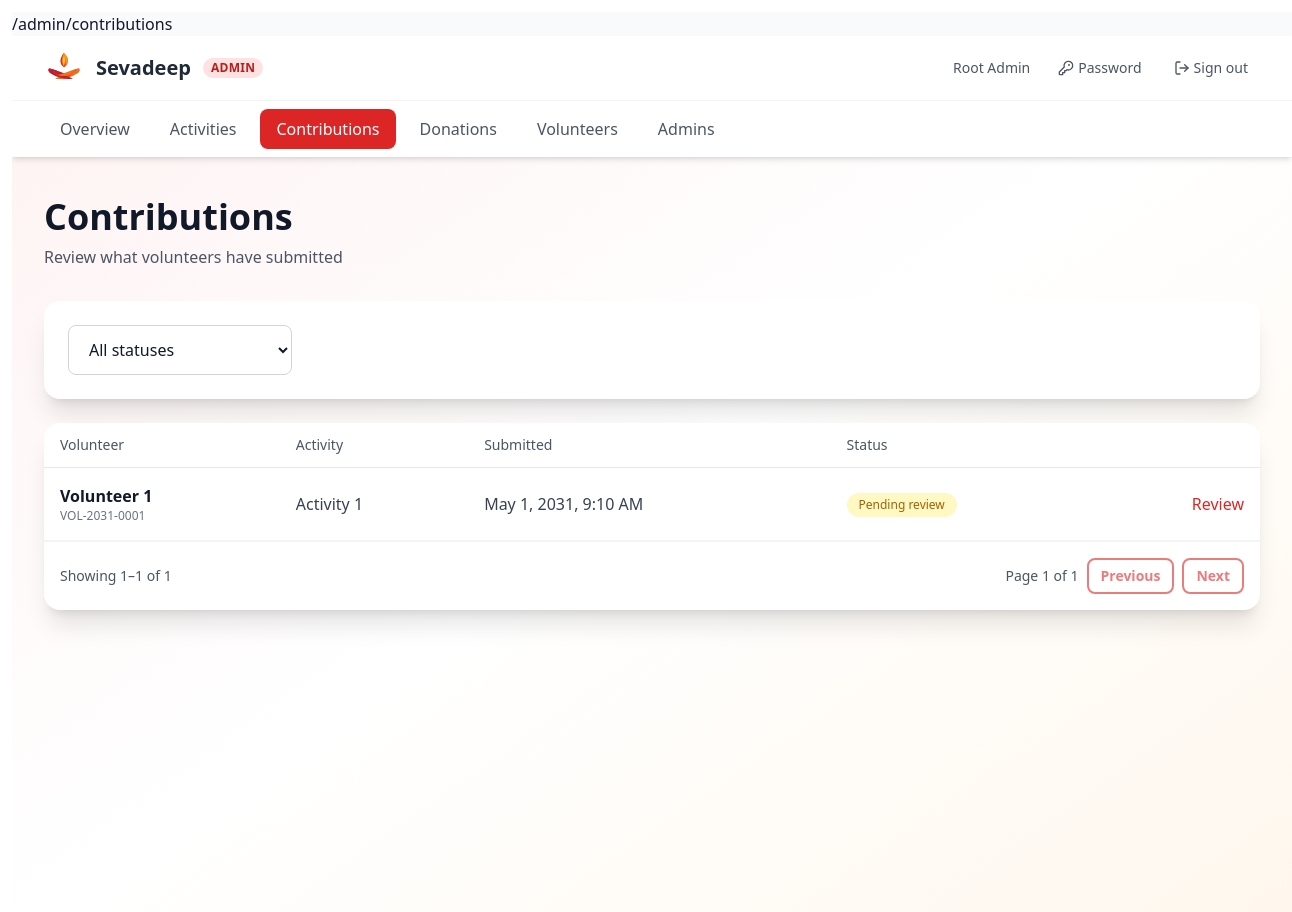
Test case: admin Contributions list › filters by status, reflected in the URL and the request
The width and height of the screenshot is (1292, 912).
Expected: the text "Activity 1" is shown, [280,468,468,540]
Select "Verified" in the dropdown named "Filter by status" at (180, 350), box [68,325,292,375]
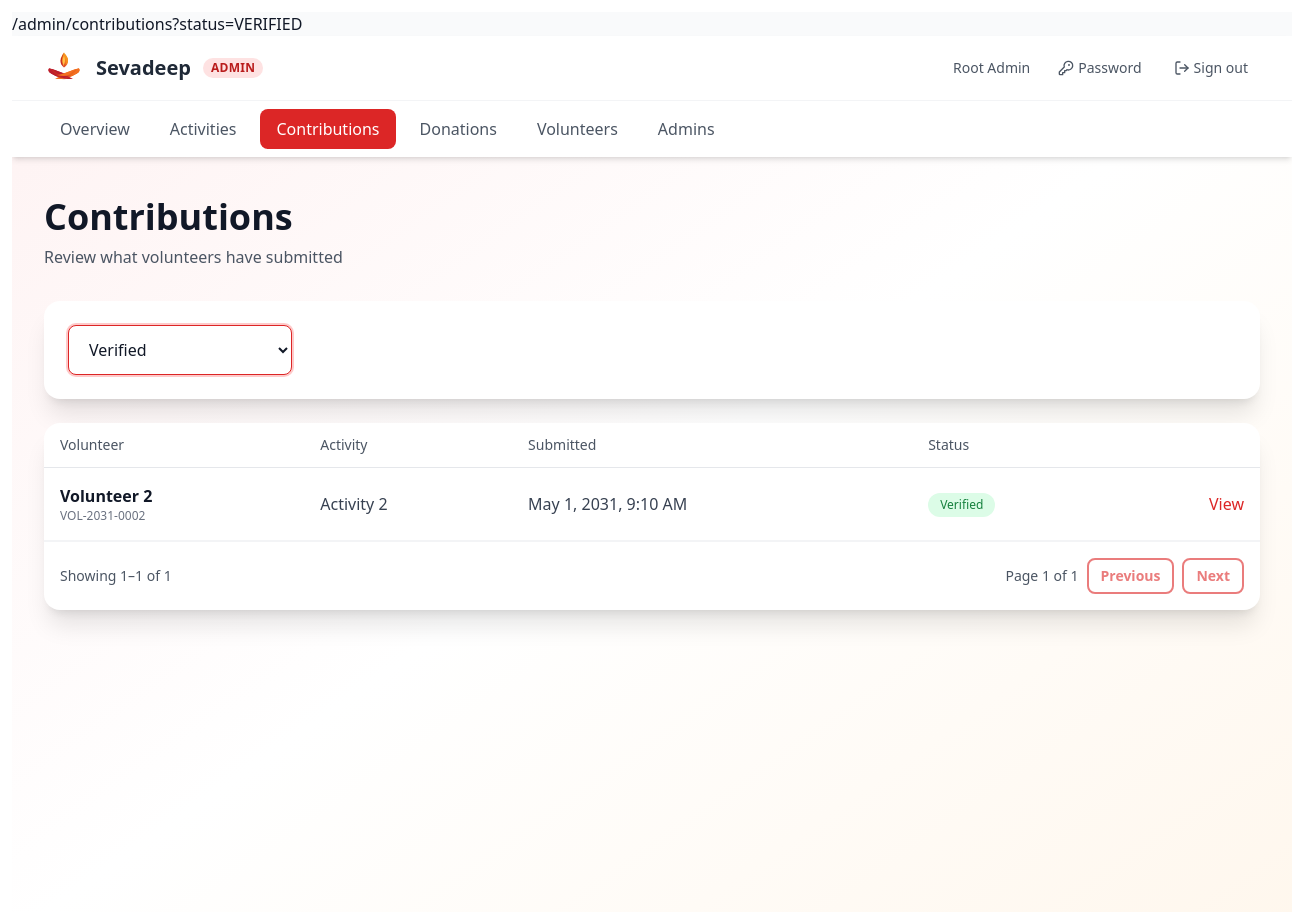
Expected: the link "View" is shown, [1209,493,1244,515]
Expected: the text "Activity 2" is shown, [304,468,512,540]
